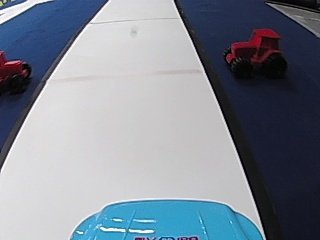tractor: (220, 25, 286, 81), (0, 48, 31, 95)
